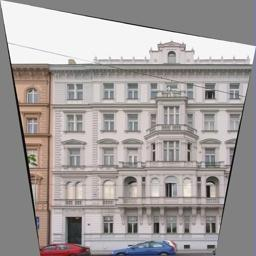building: (46, 32, 252, 256)
